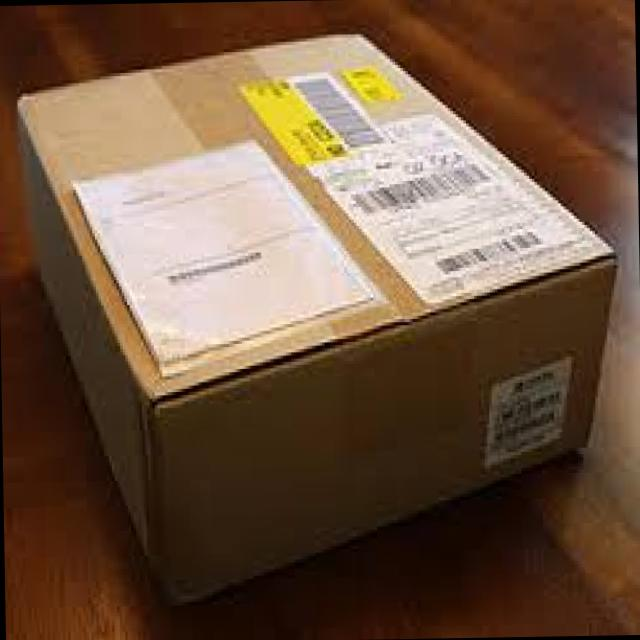box: (15, 31, 621, 606)
